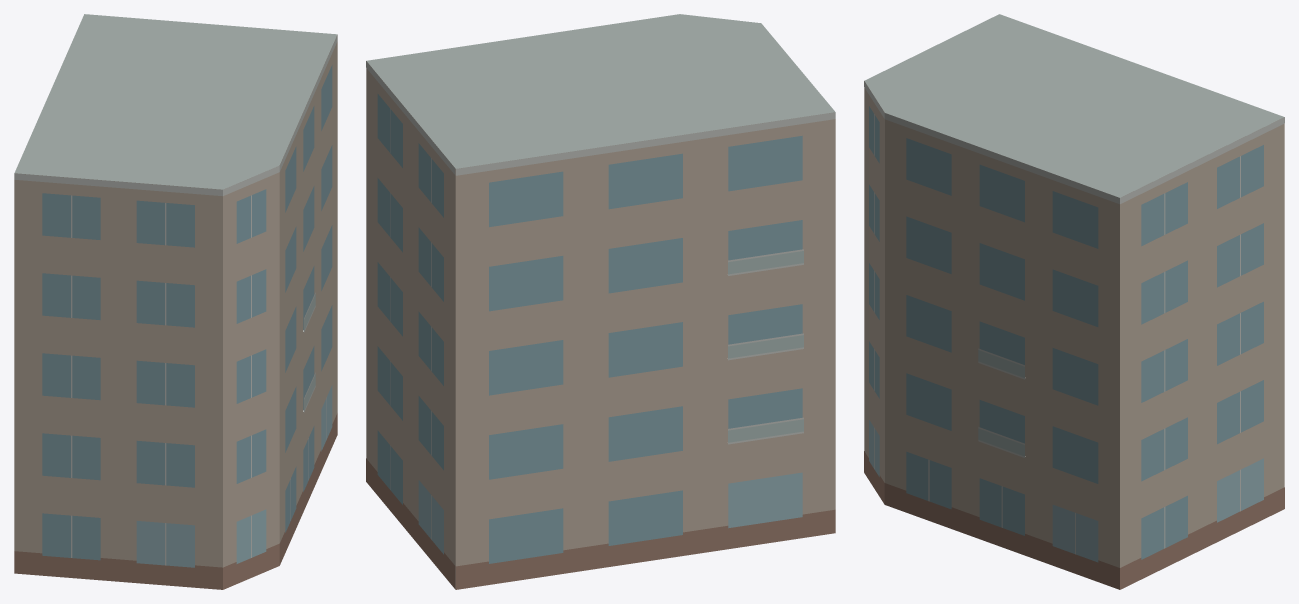
File: survey-upis-32693096.glb
3 views of the same model, side by side, from view 1: azimuth 30°, elevation 25°; view 2: azimuth 150°, elevation 25°; view 3: azimuth 270°, elevation 25° (orthographic). The views are drawn at different scales.
Parts seen in each view (by area): view 1: survey-upis-32693096.tmp; view 2: survey-upis-32693096.tmp; view 3: survey-upis-32693096.tmp.
Part boxes in pixels (bbox=[...]): survey-upis-32693096.tmp: bbox=[14, 14, 337, 589]; survey-upis-32693096.tmp: bbox=[366, 14, 835, 589]; survey-upis-32693096.tmp: bbox=[864, 14, 1284, 589].
Bounding box in the file's own units: 14.95 × 14.85 × 14.44.
